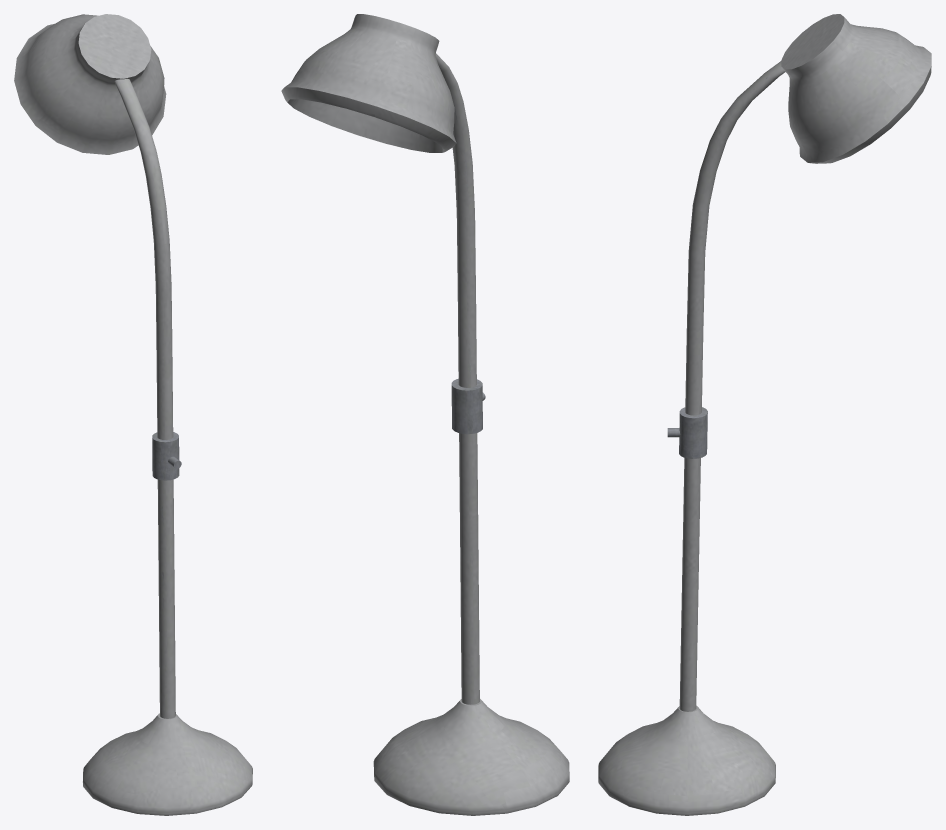
File: Unwrapped_Tall_Lamp.FBX
3 renders of one model, left to right at view 1: azimuth 30°, elevation 25°; view 2: azimuth 150°, elevation 25°; view 3: azimuth 270°, elevation 25°, orthographic. The views are drawn at different scales.
Parts seen in each view (by area): view 1: Cylinder002; view 2: Cylinder002; view 3: Cylinder002.
Boxes of the visible parts, box(x1,y1,x2,y2) form: Cylinder002: box(14, 14, 252, 815); Cylinder002: box(281, 14, 569, 815); Cylinder002: box(598, 14, 931, 815).
Size of the model in its own units: 16.99 by 76.52 by 30.41.
